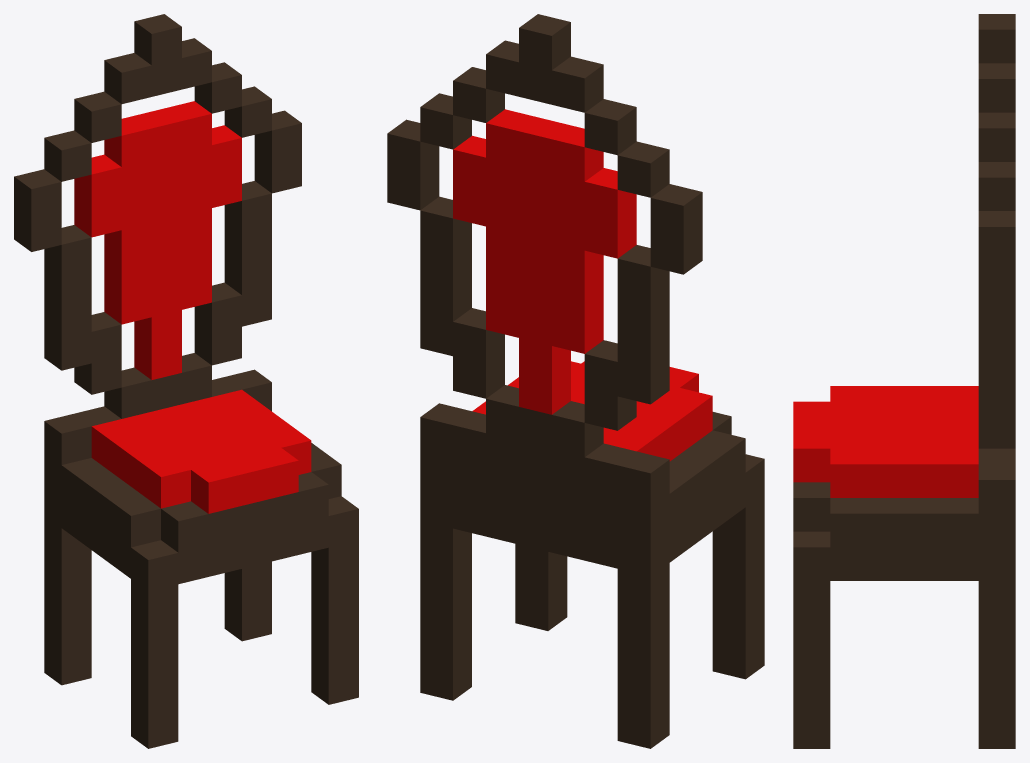
Rendered from fancy_chair.obj.
The picture shows the model from 3 angles, left to right: view 1: azimuth 30°, elevation 25°; view 2: azimuth 150°, elevation 25°; view 3: azimuth 270°, elevation 25°; orthographic projection. The views are drawn at different scales.
Visible parts, largest first — view 1: fancy_chair; view 2: fancy_chair; view 3: fancy_chair.
Part boxes in pixels (bbox=[...]): fancy_chair: bbox=[14, 14, 358, 748]; fancy_chair: bbox=[387, 14, 764, 748]; fancy_chair: bbox=[793, 14, 1015, 748].
Size of the model in its own units: 9 by 20 by 6.
1 material, 1 textured.
